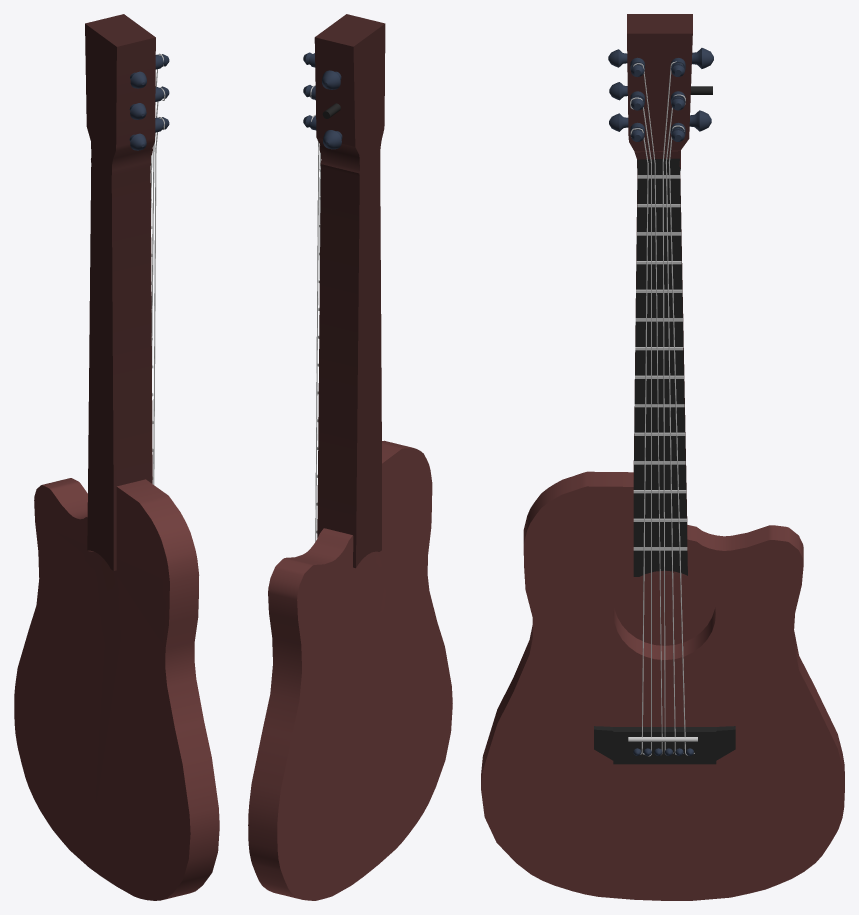
File: guitar.fbx
3 views of the same model, side by side, from view 1: azimuth 30°, elevation 25°; view 2: azimuth 150°, elevation 25°; view 3: azimuth 270°, elevation 25° (orthographic). The views are drawn at different scales.
Parts seen in each view (by area): view 1: gitar; view 2: gitar; view 3: gitar.
Part boxes in pixels (left/top/right/bottom): gitar: left=14, top=14, right=219, bottom=900; gitar: left=248, top=14, right=452, bottom=900; gitar: left=481, top=14, right=844, bottom=900.
Size of the model in its own units: 33.63 by 484 by 183.
